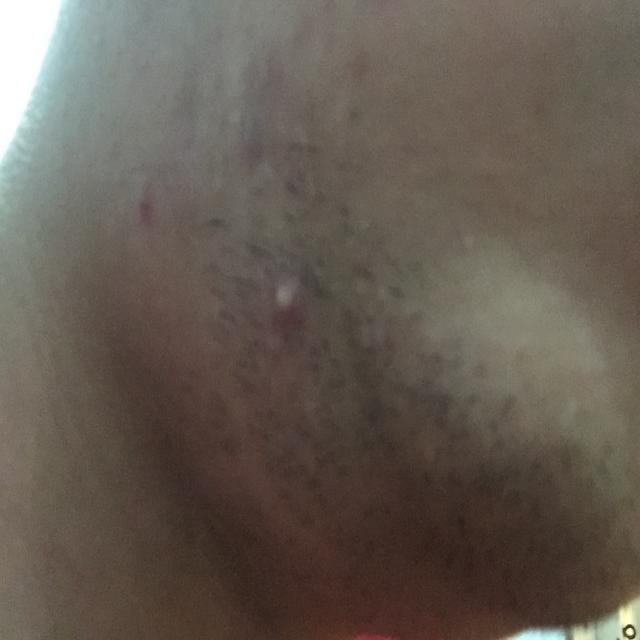blackheads: (262, 256, 310, 331)
